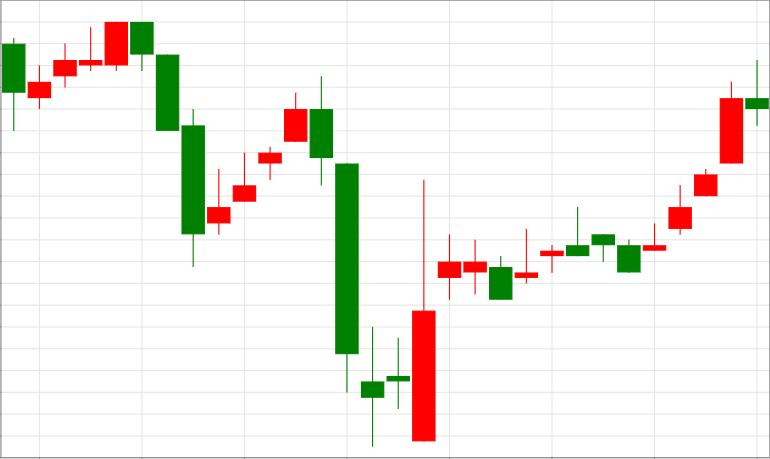bullish_engulfing_rise: (310, 76, 435, 447)
